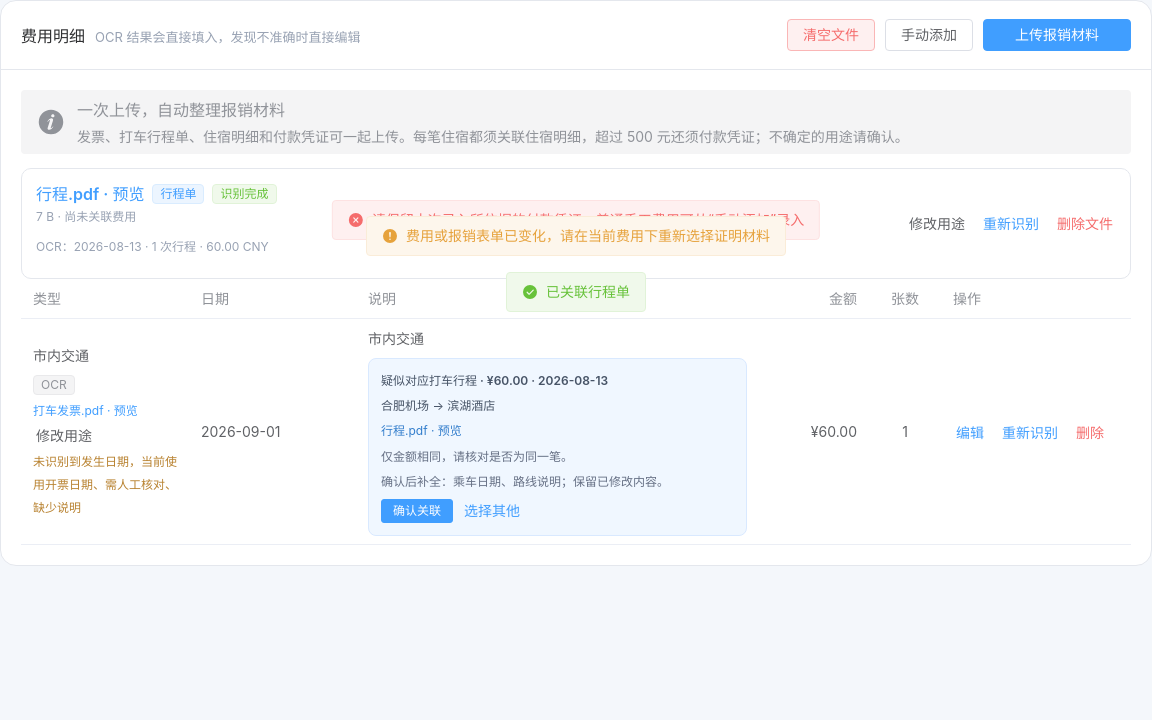
Test: ExpenseItemsCard durable files › confirms an amount-only proposal with one click and preserves edits (false)
Step 1. Click the button "确认关联" → (417, 511), box x1=381 y1=499 x2=453 y2=523
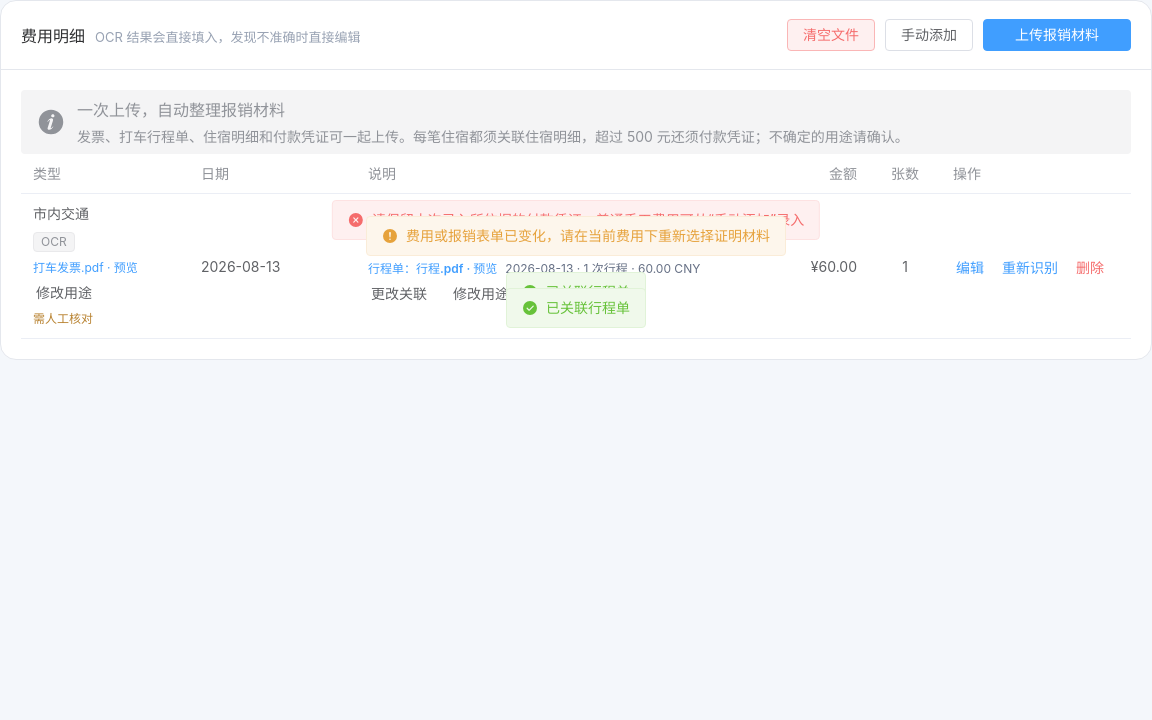
Expected: the text "合肥机场 → 滨湖酒店" is shown, x1=368 y1=231 x2=501 y2=248
Now no elements with class "itinerary-suggestion" are shown
